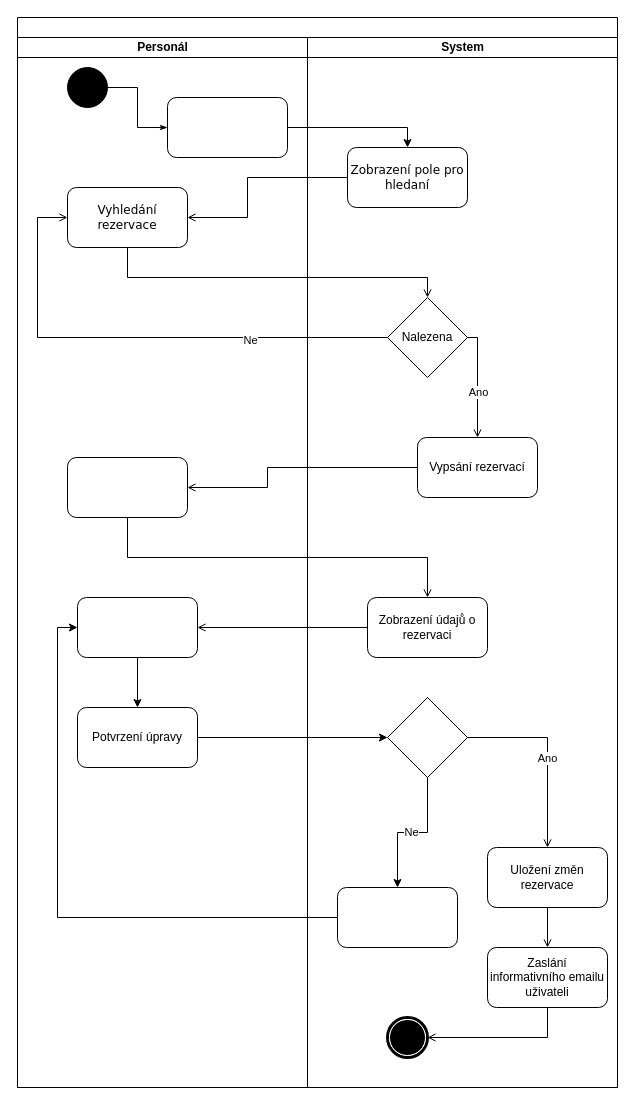
The diagram is 635 pixels wide and 1105 high, and some of its shapes have lost their labels. The shapes that lost their labels are listed below. From the top down, each one's centre as x and y in pixels, then its label:
(x=227, y=127): Otevře webovou stránku
(x=127, y=487): Výběr rezervace
(x=137, y=627): Nastavení údajů
(x=427, y=737): Provedení změn
(x=397, y=917): Zobrazení chybové zprávy
